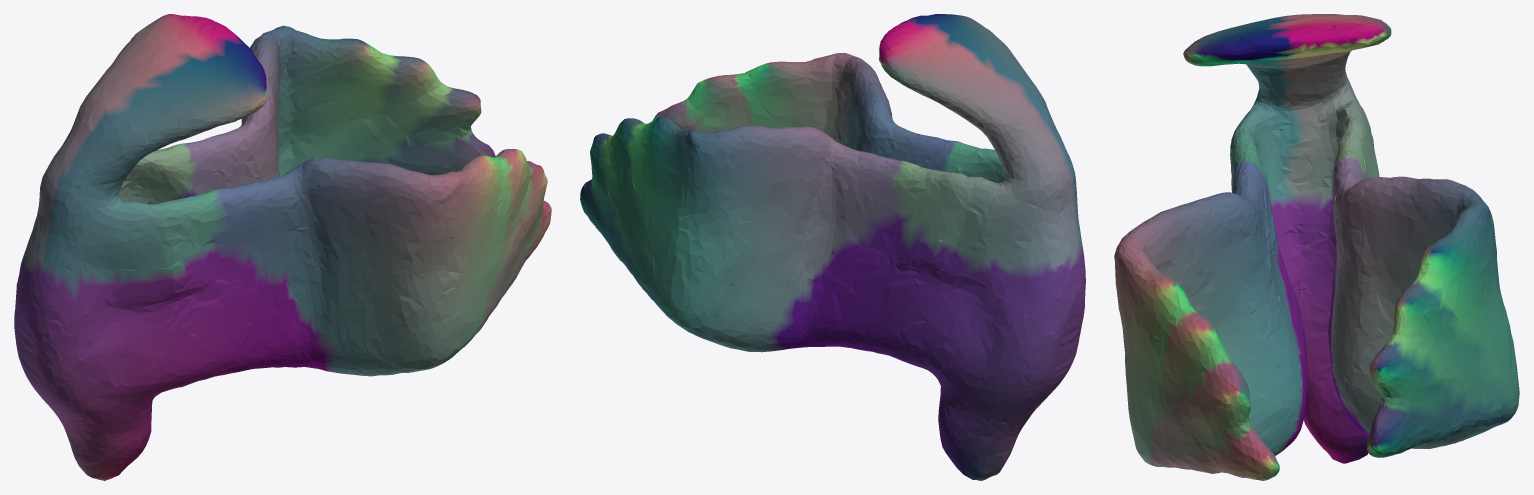
File: bird1-11.off.obj
The picture shows the model from 3 angles, left to right: view 1: azimuth 30°, elevation 25°; view 2: azimuth 150°, elevation 25°; view 3: azimuth 270°, elevation 25°; orthographic projection. The views are drawn at different scales.
Size of the model in its own units: 1.65 by 1.37 by 1.03.
